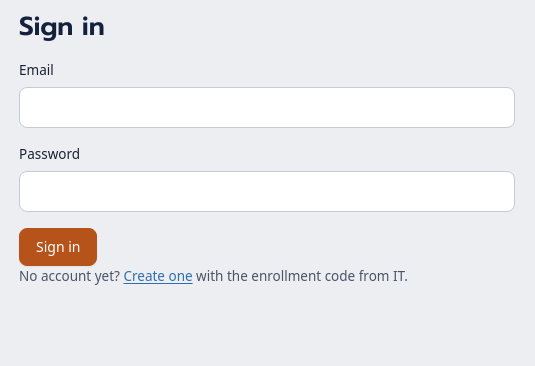
SignIn › shows the platform's answer on a failed sign-in and stays signed out
Type "alice@example.com" into the field labelled "Email" at (267, 108), box 19,87 -> 515,128
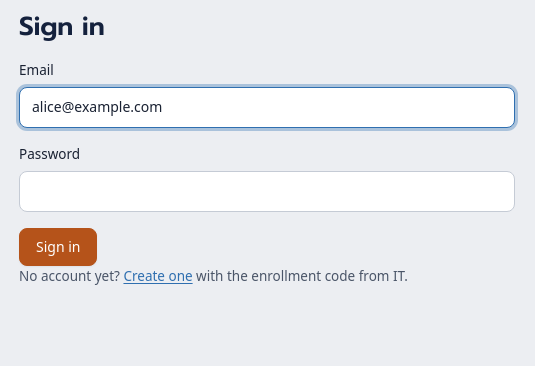
Type "wrong password" into the password field labelled "Password" at (267, 192), box 19,171 -> 515,212
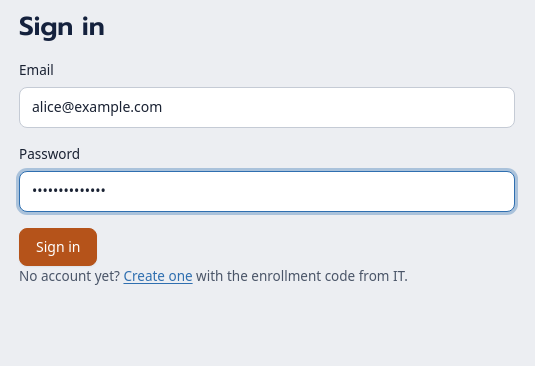
Click the button "Sign in" at (58, 247), box 19,228 -> 98,266
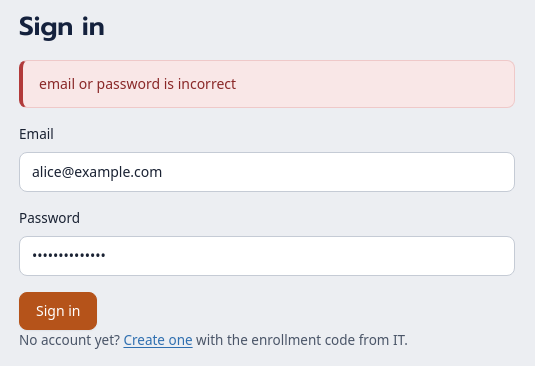
Check: the message reads "email or password is incorrect", box 39,74 -> 236,93
